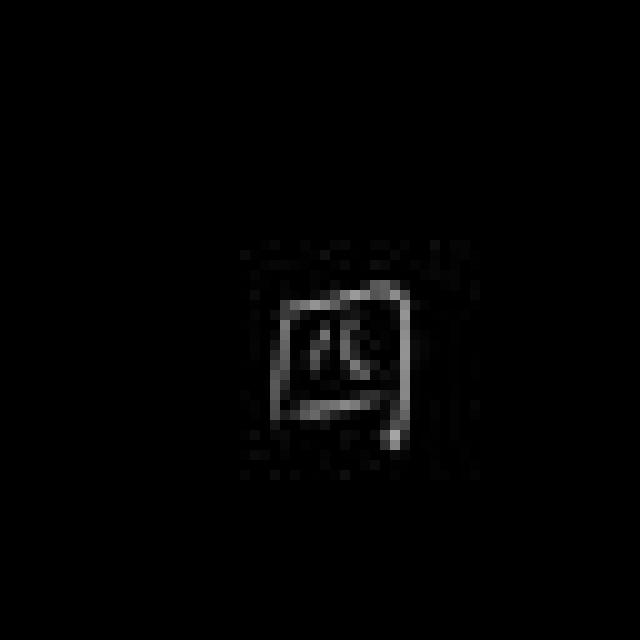4 -four-: (261, 277, 424, 464)
